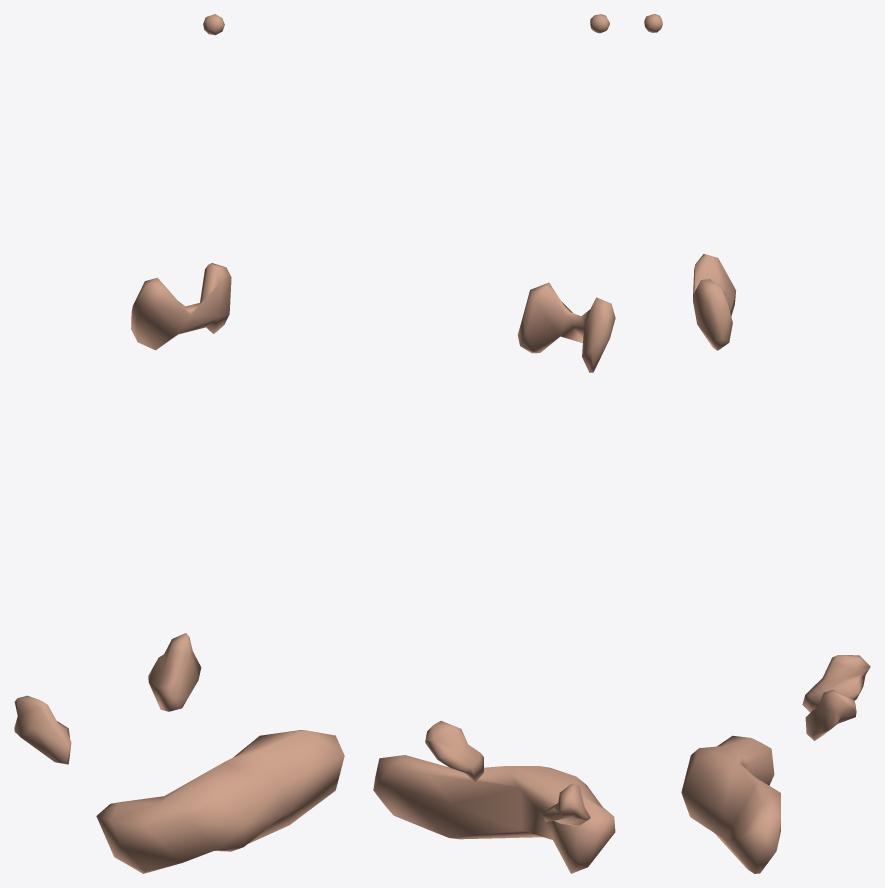
The model's file is pediatric_child_10y_female.endocrine.LOD3.glb.
3 views of the same model, side by side, from view 1: azimuth 30°, elevation 25°; view 2: azimuth 150°, elevation 25°; view 3: azimuth 270°, elevation 25° (orthographic). The views are drawn at different scales.
Visible parts, largest first — view 1: PEDIATRIC.CHILD_10Y.FEMALE.ENDOCRINE.PANCREAS, PEDIATRIC.CHILD_10Y.FEMALE.ENDOCRINE.THYROID, PEDIATRIC.CHILD_10Y.FEMALE.ENDOCRINE.ADRENAL.L, PEDIATRIC.CHILD_10Y.FEMALE.ENDOCRINE.ADRENAL.R; view 2: PEDIATRIC.CHILD_10Y.FEMALE.ENDOCRINE.PANCREAS, PEDIATRIC.CHILD_10Y.FEMALE.ENDOCRINE.THYROID, PEDIATRIC.CHILD_10Y.FEMALE.ENDOCRINE.ADRENAL.L, PEDIATRIC.CHILD_10Y.FEMALE.ENDOCRINE.ADRENAL.R; view 3: PEDIATRIC.CHILD_10Y.FEMALE.ENDOCRINE.PANCREAS, PEDIATRIC.CHILD_10Y.FEMALE.ENDOCRINE.THYROID, PEDIATRIC.CHILD_10Y.FEMALE.ENDOCRINE.ADRENAL.R, PEDIATRIC.CHILD_10Y.FEMALE.ENDOCRINE.ADRENAL.L.
Boxes of the visible parts, x1=… form: PEDIATRIC.CHILD_10Y.FEMALE.ENDOCRINE.PANCREAS: x1=96, y1=730, x2=344, y2=873; PEDIATRIC.CHILD_10Y.FEMALE.ENDOCRINE.THYROID: x1=131, y1=263, x2=231, y2=350; PEDIATRIC.CHILD_10Y.FEMALE.ENDOCRINE.ADRENAL.L: x1=148, y1=633, x2=201, y2=711; PEDIATRIC.CHILD_10Y.FEMALE.ENDOCRINE.ADRENAL.R: x1=14, y1=695, x2=71, y2=764; PEDIATRIC.CHILD_10Y.FEMALE.ENDOCRINE.PANCREAS: x1=373, y1=755, x2=615, y2=873; PEDIATRIC.CHILD_10Y.FEMALE.ENDOCRINE.THYROID: x1=517, y1=282, x2=615, y2=372; PEDIATRIC.CHILD_10Y.FEMALE.ENDOCRINE.ADRENAL.L: x1=425, y1=721, x2=483, y2=781; PEDIATRIC.CHILD_10Y.FEMALE.ENDOCRINE.ADRENAL.R: x1=543, y1=783, x2=590, y2=825; PEDIATRIC.CHILD_10Y.FEMALE.ENDOCRINE.PANCREAS: x1=681, y1=735, x2=780, y2=873; PEDIATRIC.CHILD_10Y.FEMALE.ENDOCRINE.THYROID: x1=693, y1=254, x2=736, y2=350; PEDIATRIC.CHILD_10Y.FEMALE.ENDOCRINE.ADRENAL.R: x1=802, y1=655, x2=870, y2=712; PEDIATRIC.CHILD_10Y.FEMALE.ENDOCRINE.ADRENAL.L: x1=805, y1=690, x2=856, y2=740.
Size of the model in its own units: 0.1336 by 0.4032 by 0.1036.
